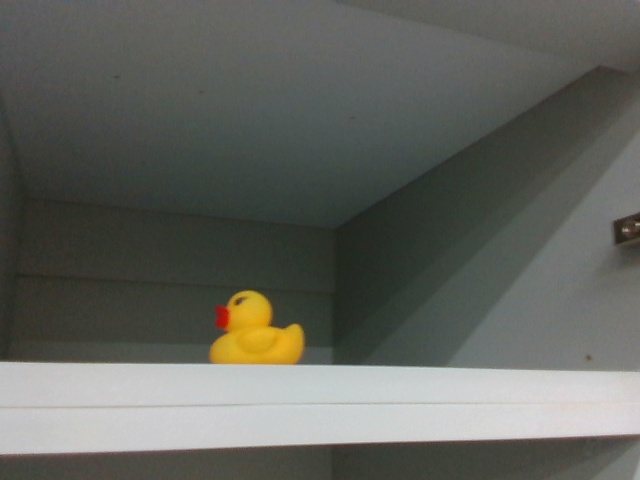duck: (201, 280, 308, 362)
